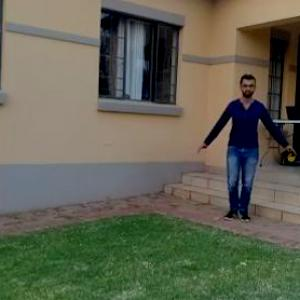land: (193, 84, 287, 233)
